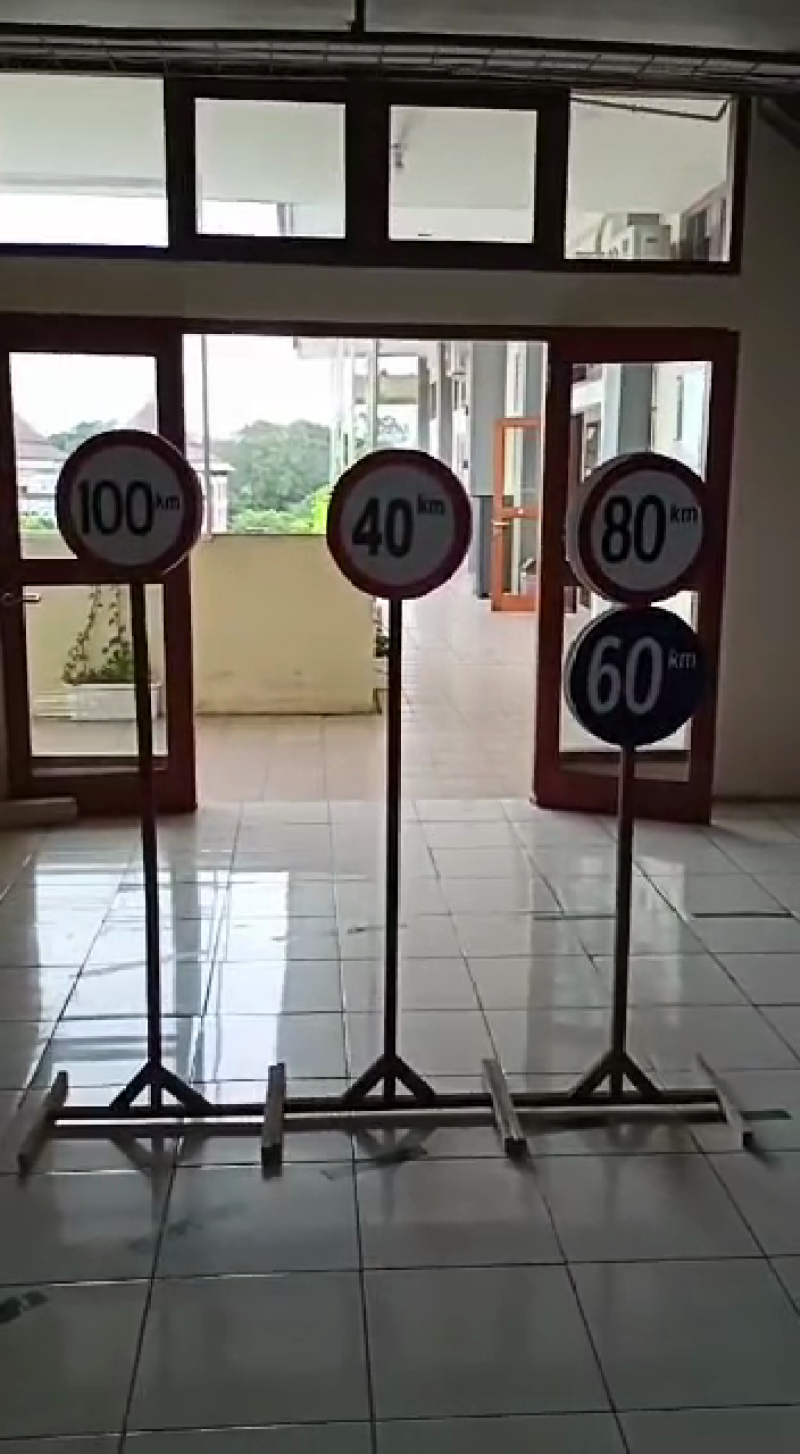batas maksimal 100kmperjam: (53, 422, 207, 570)
batas maksimal 40kmperjam: (316, 446, 476, 614)
batas maksimal 80kmperjam minimal 60kmperjam: (559, 442, 709, 748)
